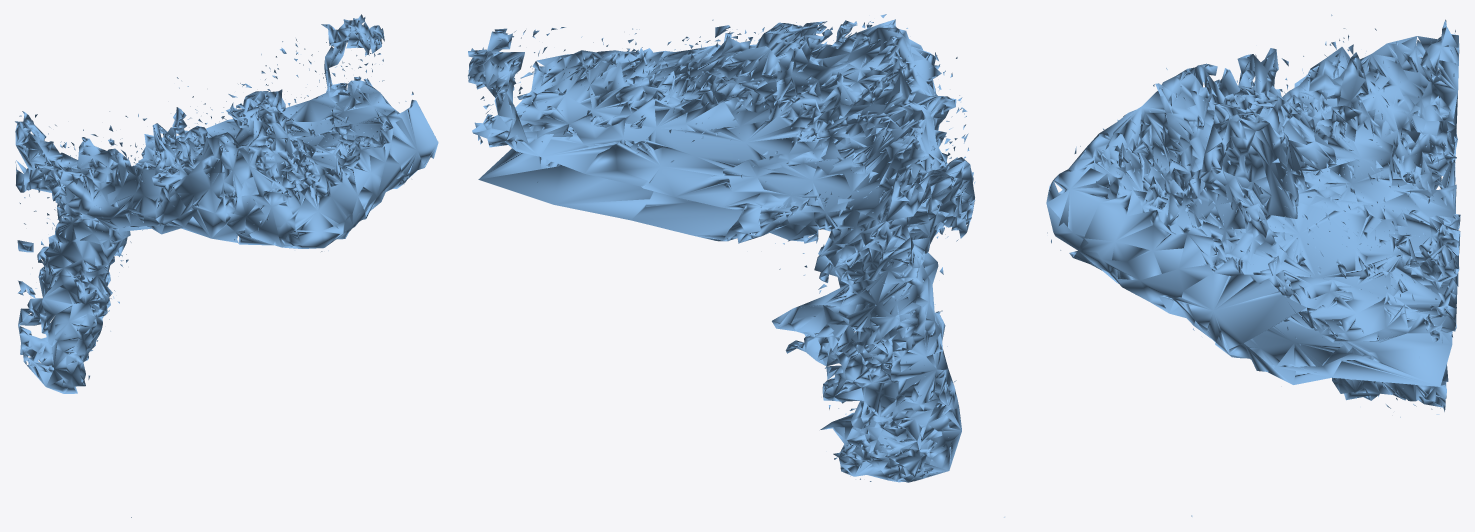
File: fina.glb
The picture shows the model from 3 angles, left to right: view 1: azimuth 30°, elevation 25°; view 2: azimuth 150°, elevation 25°; view 3: azimuth 270°, elevation 25°; orthographic projection. The views are drawn at different scales.
Visible parts, largest first — view 1: turn3d_app_scan.001; view 2: turn3d_app_scan.001; view 3: turn3d_app_scan.001.
Part boxes in pixels (x1,y1,x2,y2): turn3d_app_scan.001: (15,14,438,517); turn3d_app_scan.001: (468,14,1004,517); turn3d_app_scan.001: (1046,14,1460,516).
Bounding box in the file's own units: 9.06 × 8.97 × 6.82.
